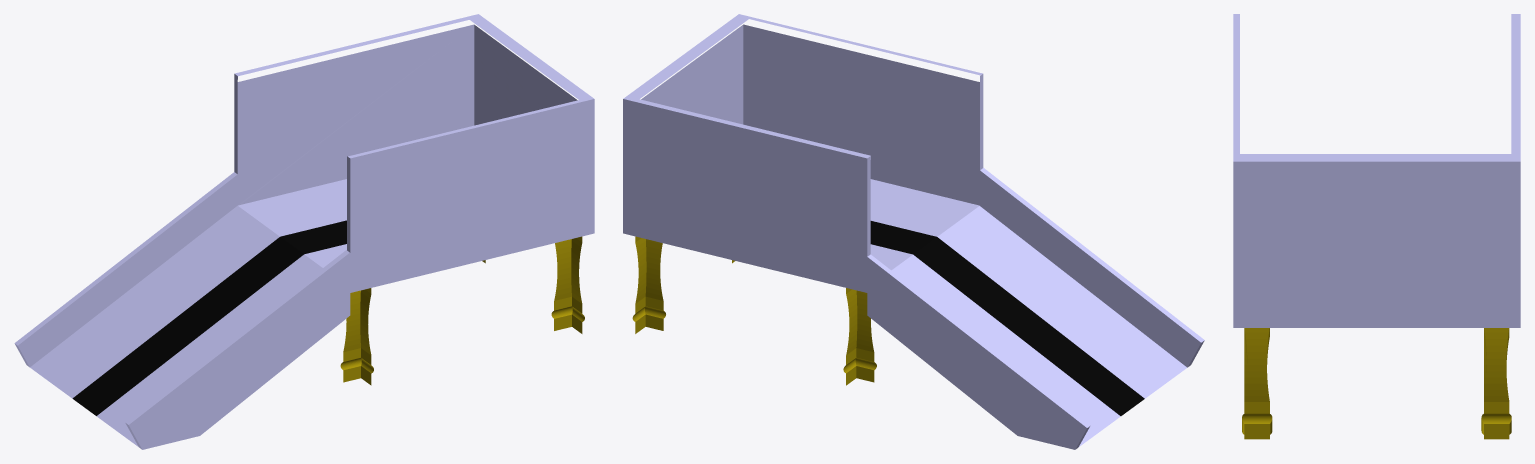
Rendered from CPT (3).glb.
3 renders of one model, left to right at view 1: azimuth 30°, elevation 25°; view 2: azimuth 150°, elevation 25°; view 3: azimuth 270°, elevation 25°, orthographic. The views are drawn at different scales.
Parts seen in each view (by area): view 1: Model, Leg2, Leg1; view 2: Model, Leg3, Leg4; view 3: Model, Leg2, Leg3.
Part boxes in pixels (box(x1,y1,x2,y2)): Model: box(14, 14, 594, 449); Leg2: box(551, 236, 584, 333); Leg1: box(340, 288, 373, 385); Model: box(623, 14, 1204, 449); Leg3: box(632, 236, 665, 333); Leg4: box(843, 288, 876, 385); Model: box(1233, 14, 1520, 327); Leg2: box(1242, 328, 1272, 439); Leg3: box(1481, 328, 1511, 439).
Size of the model in its own units: 7.67 by 3.79 by 3.31.
